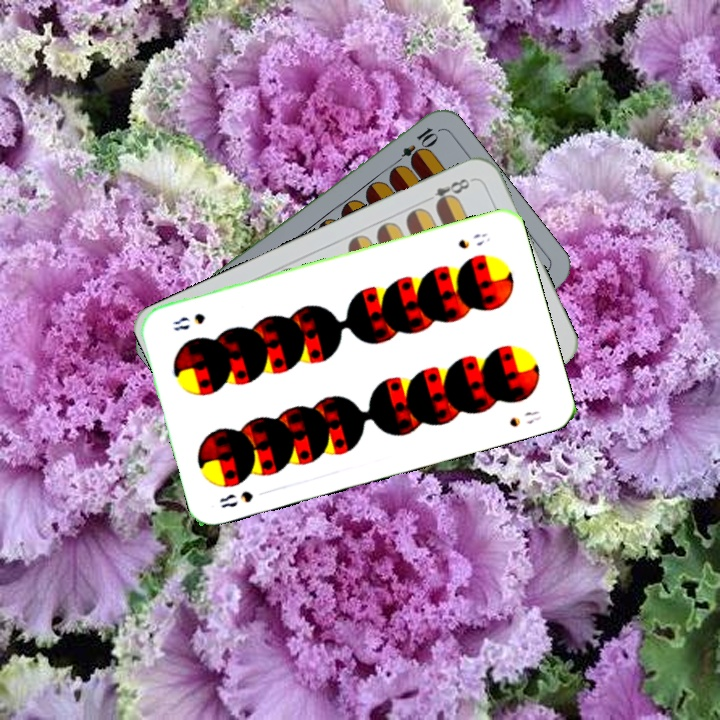E10: (389, 123, 440, 170)
E8: (420, 174, 476, 211)
S8: (215, 487, 256, 511), (454, 229, 493, 252)
